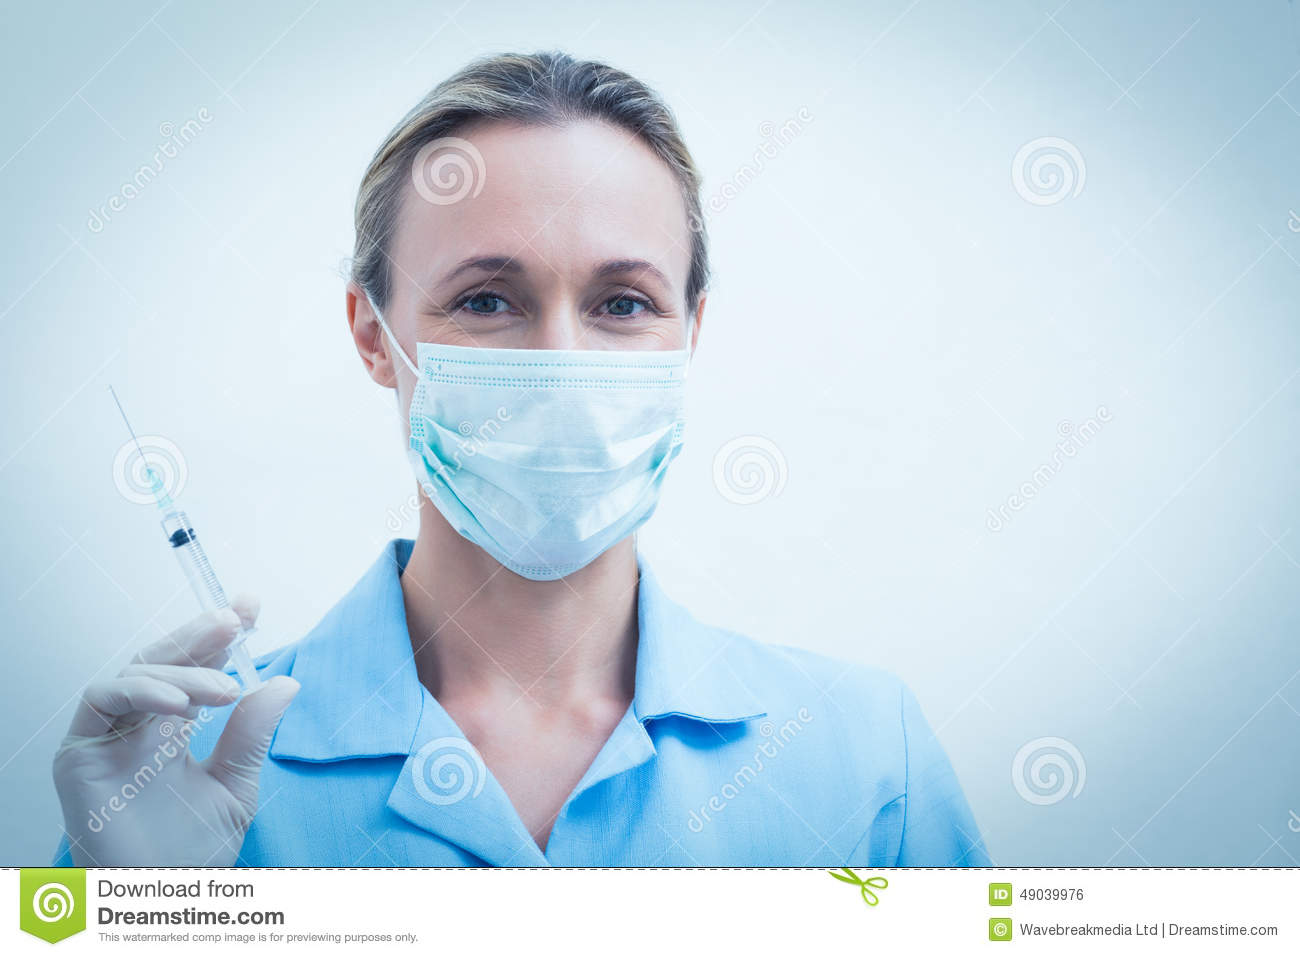mask: (411, 341, 689, 611)
